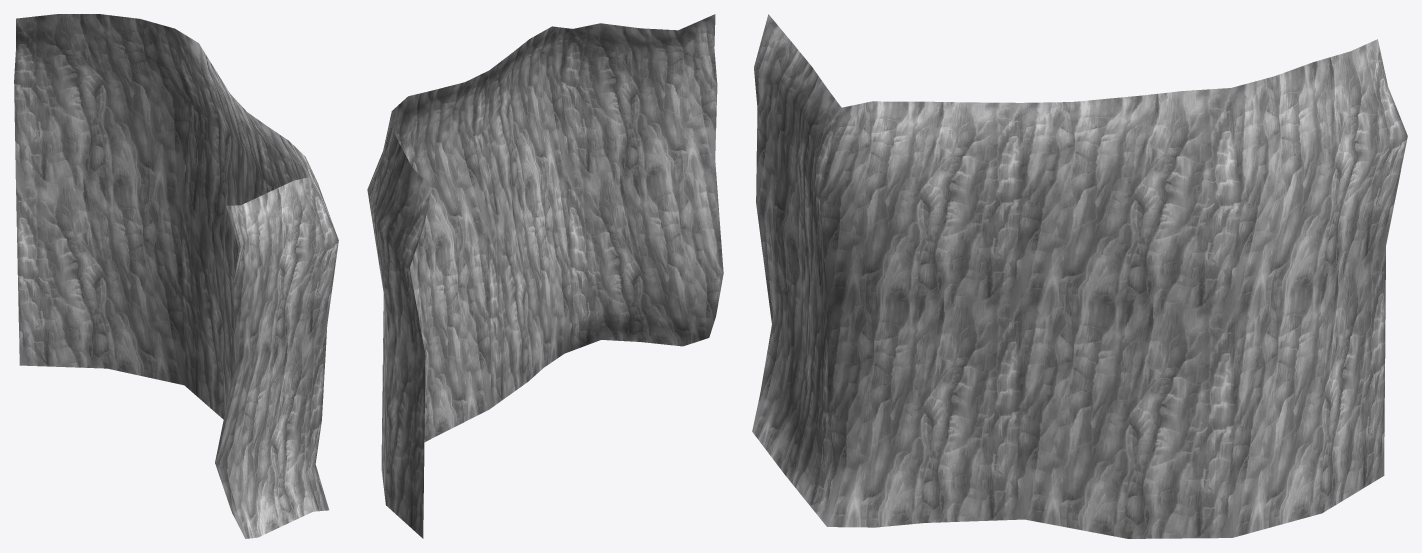
File: SWORDLIGHT20_PS-AREA03_70.fbx
The picture shows the model from 3 angles, left to right: view 1: azimuth 30°, elevation 25°; view 2: azimuth 150°, elevation 25°; view 3: azimuth 270°, elevation 25°; orthographic projection. The views are drawn at different scales.
Visible parts, largest first — view 1: SWORDLIGHT20_PS-AREA03_70; view 2: SWORDLIGHT20_PS-AREA03_70; view 3: SWORDLIGHT20_PS-AREA03_70.
Boxes of the visible parts, <box> form: SWORDLIGHT20_PS-AREA03_70: <box>14,14,338,538</box>; SWORDLIGHT20_PS-AREA03_70: <box>367,14,723,538</box>; SWORDLIGHT20_PS-AREA03_70: <box>752,14,1407,538</box>.
Size of the model in its own units: 75263 by 156888 by 207908.
Materials: 1 (1 with a texture image).
